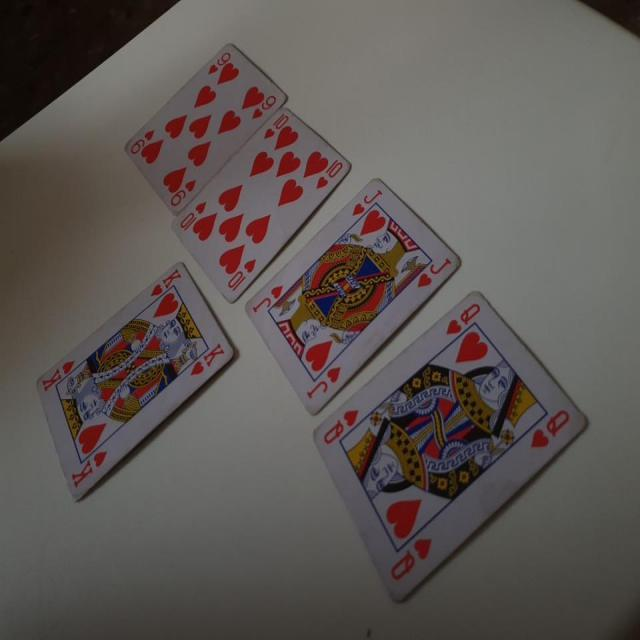10 of hearts: (162, 103, 352, 312)
9 of hearts: (114, 38, 296, 217)
jack of hearts: (236, 171, 466, 417)
king of hearts: (32, 257, 236, 519)
queen of hearts: (308, 290, 592, 594)
